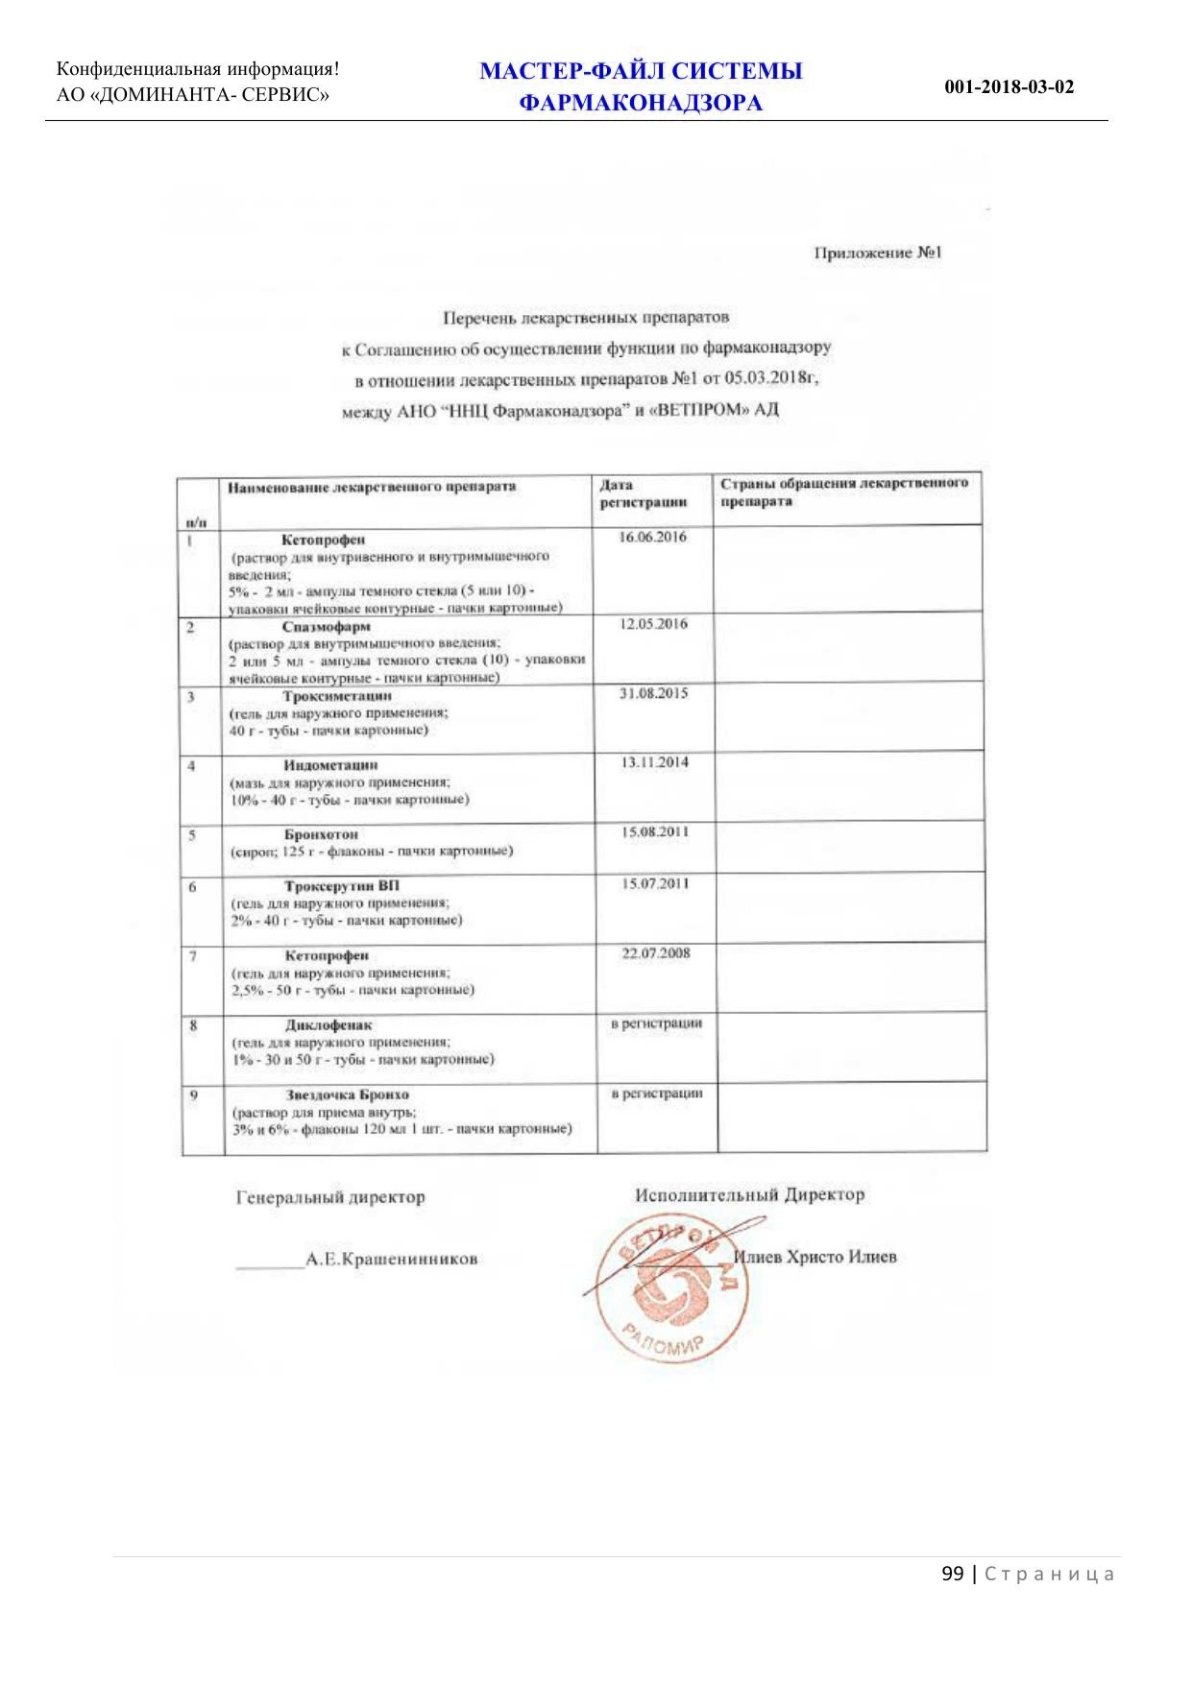full_lined: (174, 469, 989, 1158)
